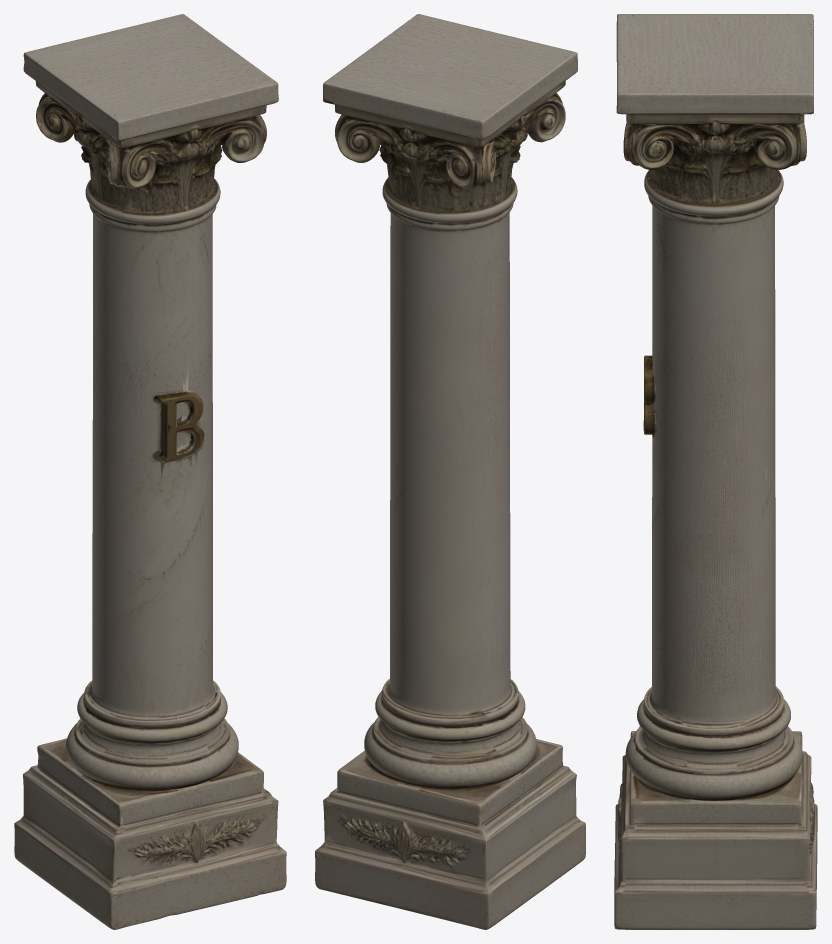
The model's file is boaz.glb.
3 views of the same model, side by side, from view 1: azimuth 30°, elevation 25°; view 2: azimuth 150°, elevation 25°; view 3: azimuth 270°, elevation 25° (orthographic). The views are drawn at different scales.
Visible parts, largest first — view 1: node_0; view 2: node_0; view 3: node_0.
Part boxes in pixels (box(x1,y1,x2,y2)): node_0: box(14, 14, 286, 929); node_0: box(315, 14, 585, 929); node_0: box(614, 14, 817, 929).
Size of the model in its own units: 0.2617 by 1.15 by 0.254.
Materials: 1 (1 with a texture image).
